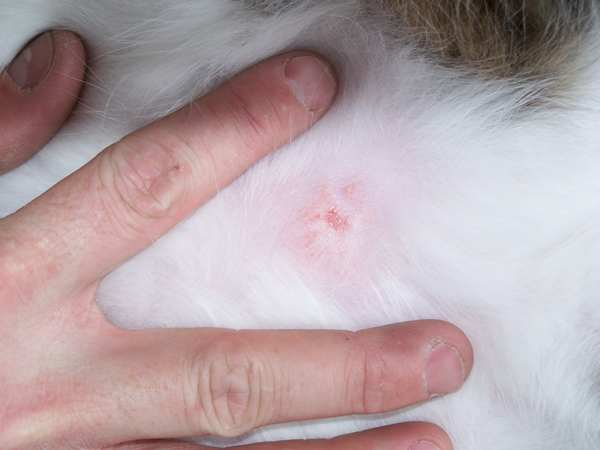ringworm: (298, 183, 358, 257)
